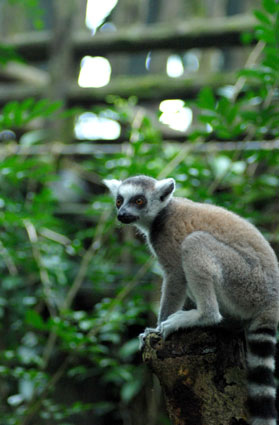cat: (99, 173, 277, 414)
